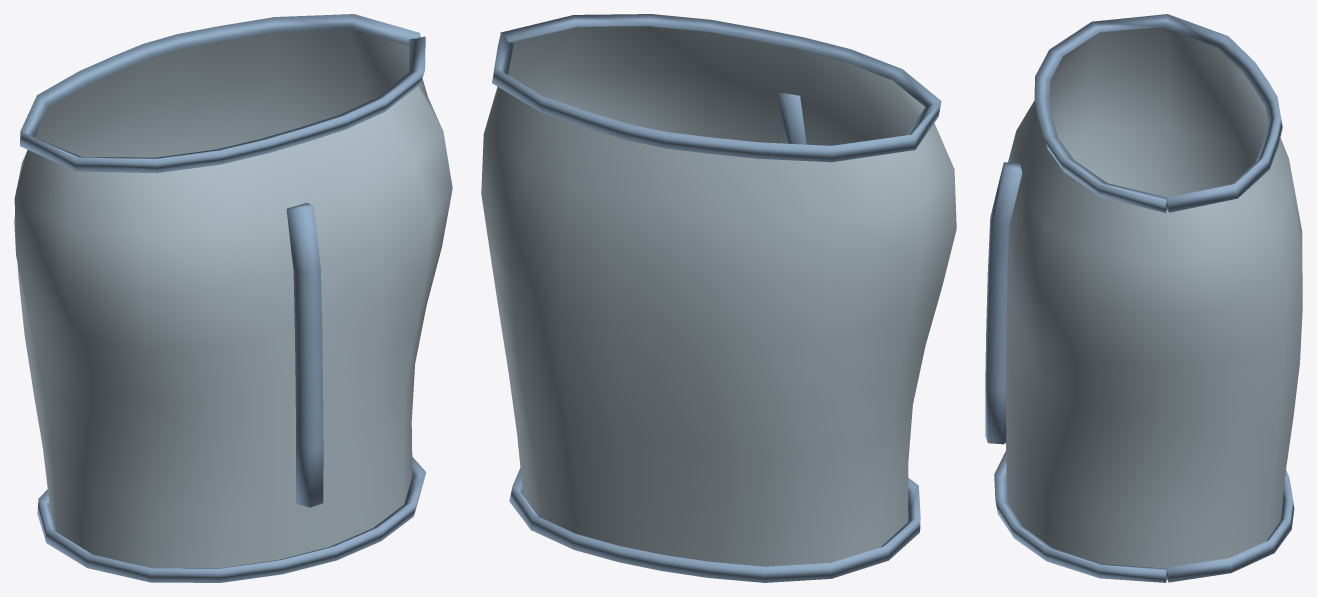
Rendered from platinum_armor_chest.glb.
3 views of the same model, side by side, from view 1: azimuth 30°, elevation 25°; view 2: azimuth 150°, elevation 25°; view 3: azimuth 270°, elevation 25° (orthographic). The views are drawn at different scales.
Parts seen in each view (by area): view 1: platinum_armor_chest; view 2: platinum_armor_chest; view 3: platinum_armor_chest.
Boxes of the visible parts, x1,y1,x2,y2 form: platinum_armor_chest: [14, 14, 452, 582]; platinum_armor_chest: [481, 14, 956, 582]; platinum_armor_chest: [985, 14, 1302, 582].
Size of the model in its own units: 0.3976 by 0.3857 by 0.2799.
